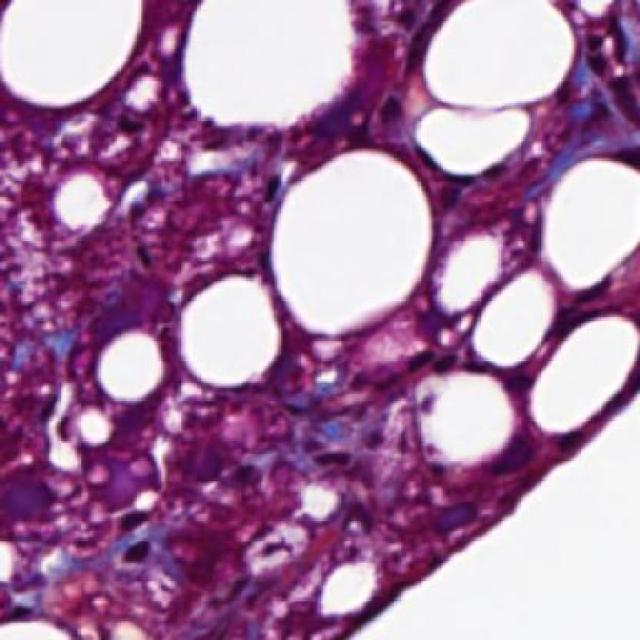inflammation: (112, 503, 161, 570)
